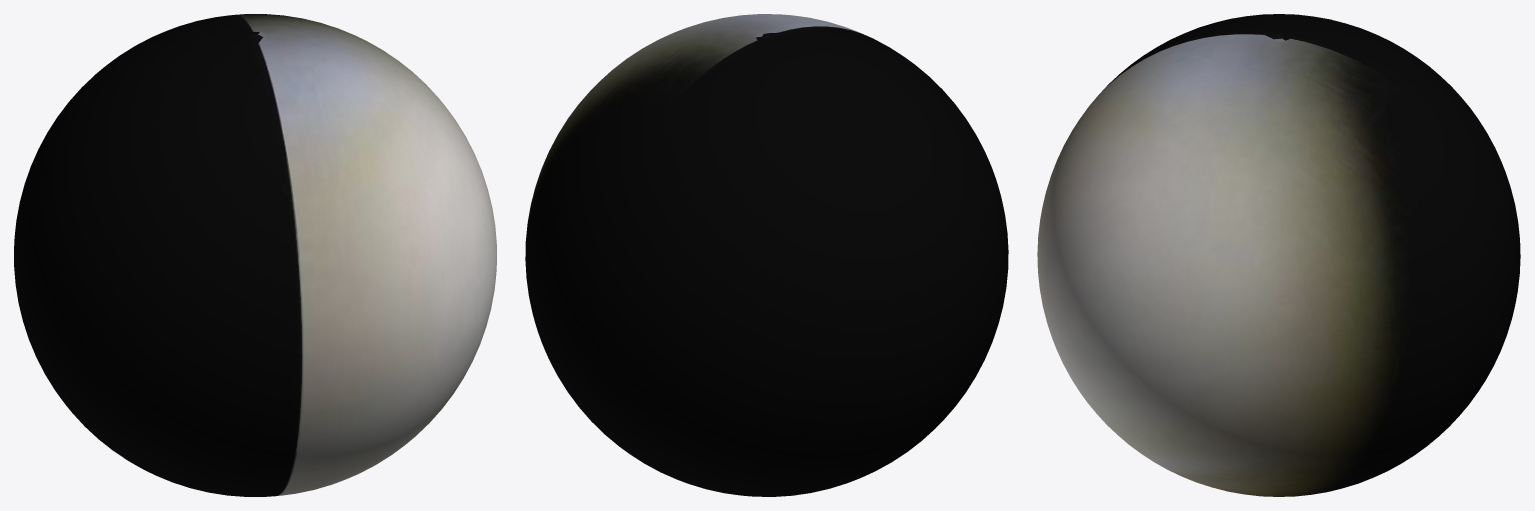
3 views of the same model, side by side, from view 1: azimuth 30°, elevation 25°; view 2: azimuth 150°, elevation 25°; view 3: azimuth 270°, elevation 25° (orthographic).
Visible parts, largest first — view 1: Tierra.001; view 2: Tierra.001; view 3: Tierra.001.
Part boxes in pixels (left/top/right/bottom): Tierra.001: left=14, top=14, right=496, bottom=496; Tierra.001: left=525, top=14, right=1008, bottom=496; Tierra.001: left=1037, top=14, right=1520, bottom=496.
Size of the model in its own units: 18 by 18 by 18.
Materials: 1 (1 with a texture image).
